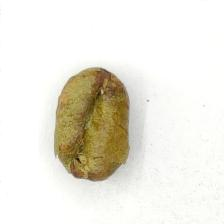NG: (54, 66, 132, 181)
